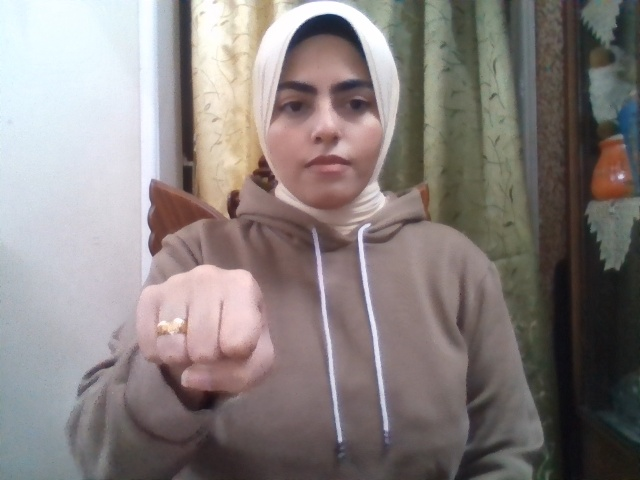yes: (136, 264, 275, 393)
